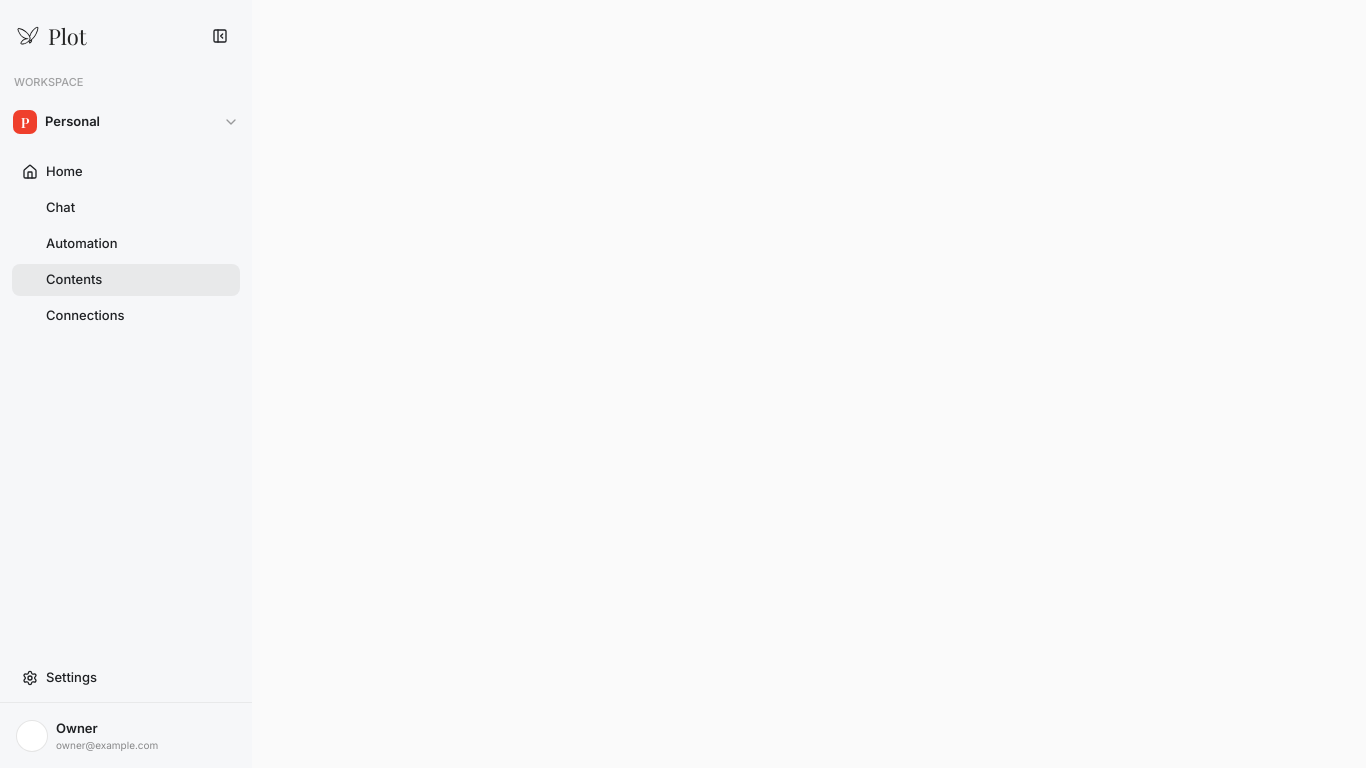
Settings navigation › renders a compact selector when only one workspace is available
Click the button "P Personal" at (126, 122), box [12, 104, 240, 140]
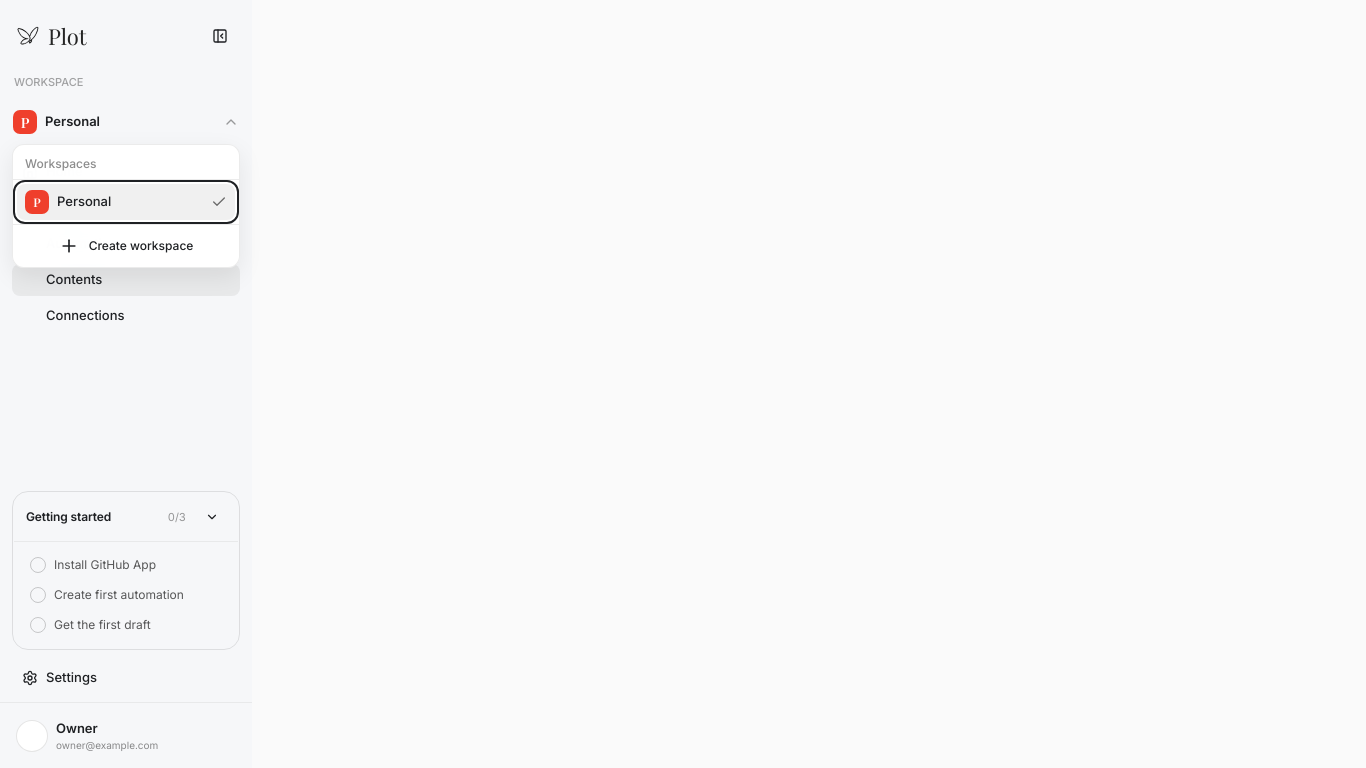
Now the text "Workspaces" is shown, box [13, 145, 239, 180]
Press ArrowDown in the menu item with aria-label "Personal workspace", box [17, 184, 235, 220]
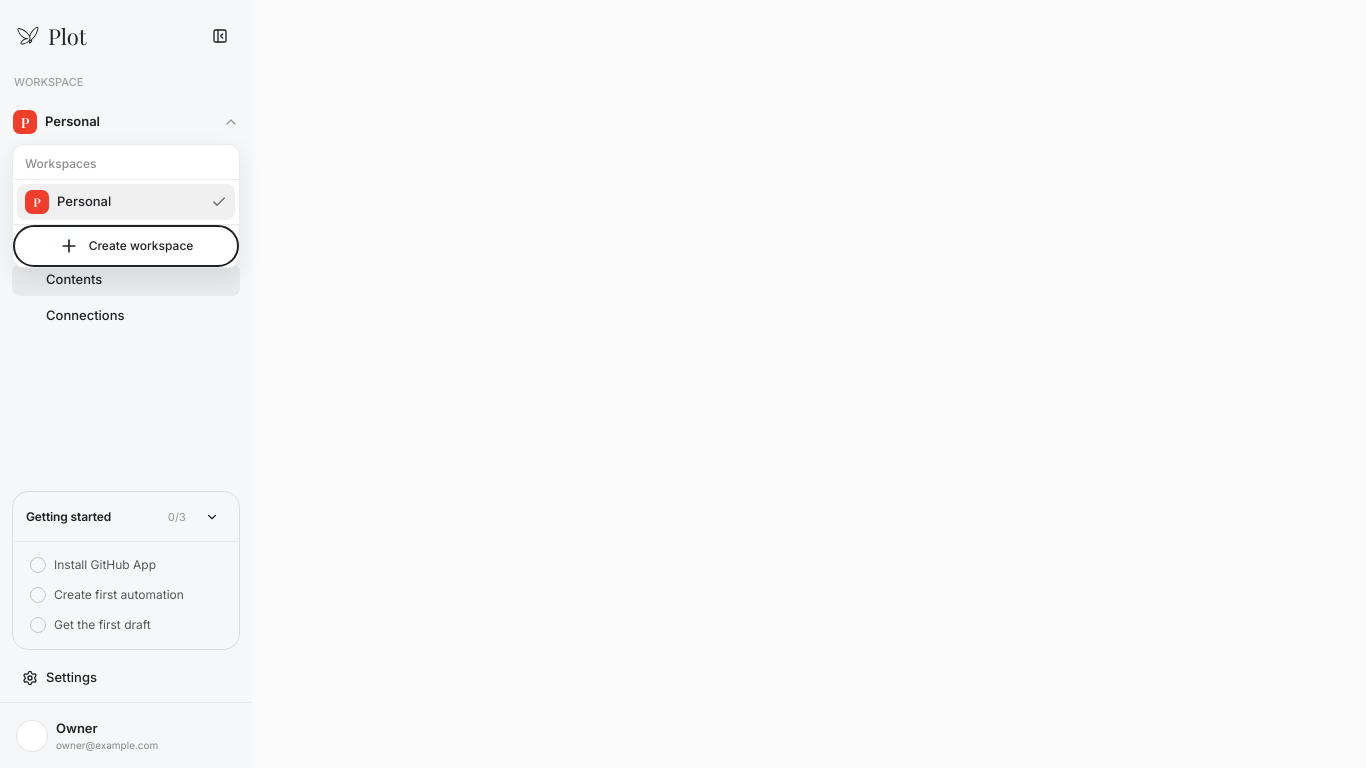
Press ArrowDown in the menu item "Create workspace", box [17, 229, 235, 263]
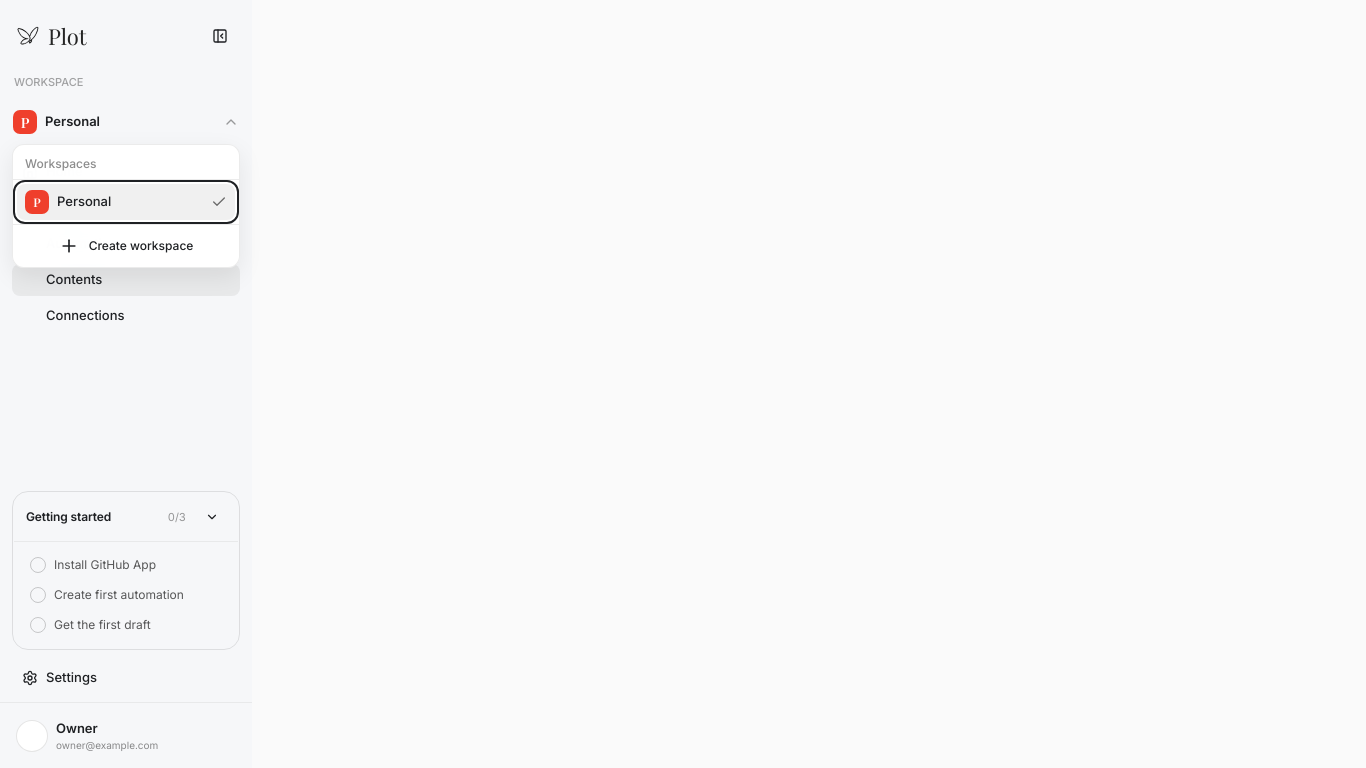
Press End in the menu item with aria-label "Personal workspace", box [17, 184, 235, 220]
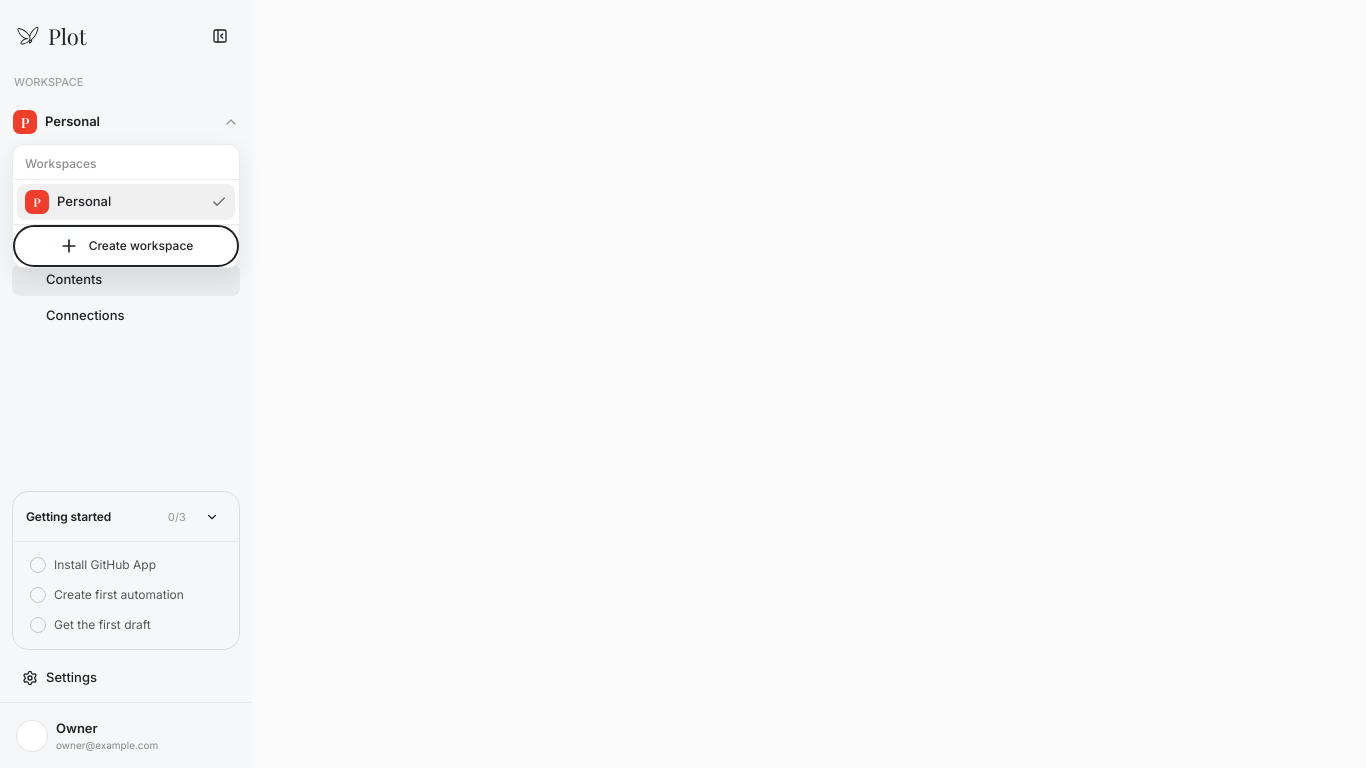
Now the menu item "Create workspace" is enabled
Click the menu item "Create workspace" at (126, 246), box [17, 229, 235, 263]
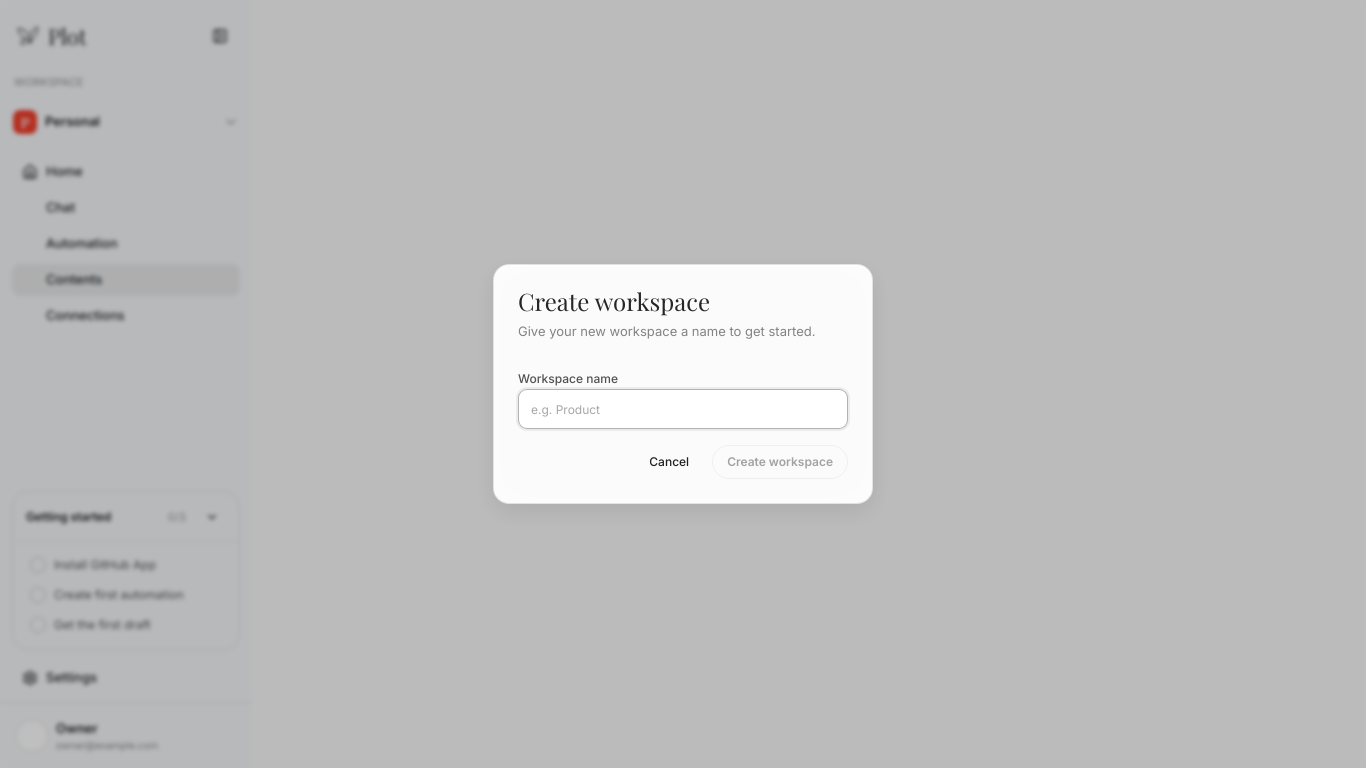
Now the dialog "Create workspace" is shown, box [493, 264, 873, 504]
Now the field labelled "Workspace name" is shown, box [518, 389, 848, 429]
